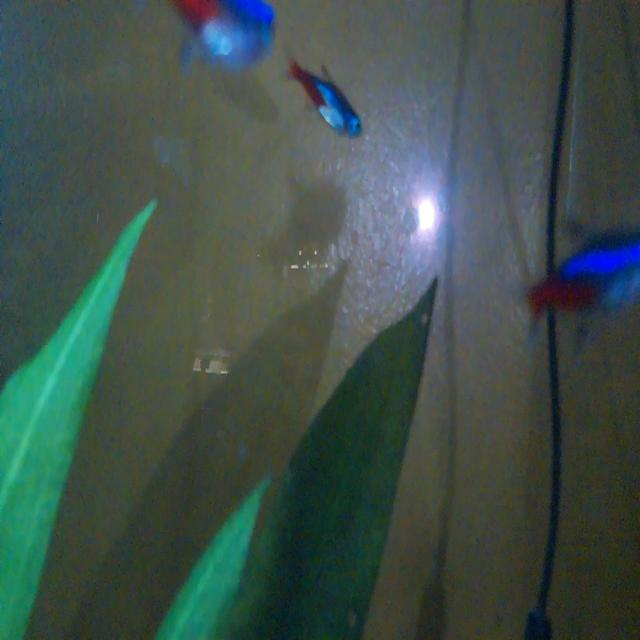fish: (289, 56, 363, 151)
